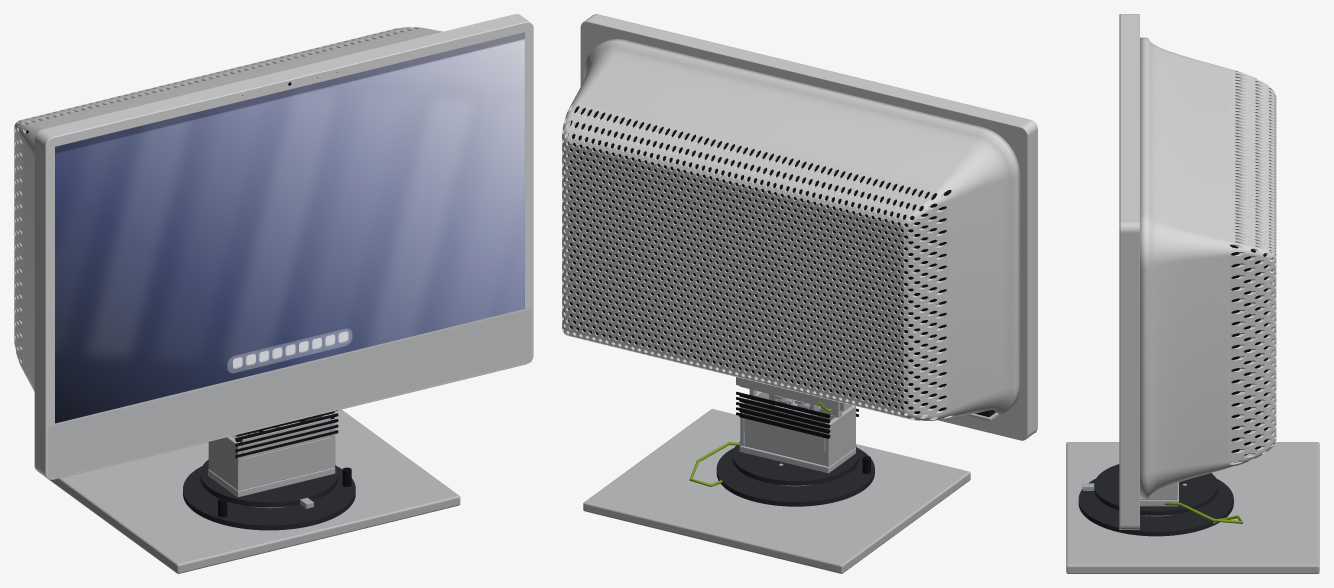
The model's file is imac_pc.glb.
The picture shows the model from 3 angles, left to right: view 1: azimuth 30°, elevation 25°; view 2: azimuth 150°, elevation 25°; view 3: azimuth 270°, elevation 25°; orthographic projection. The views are drawn at different scales.
Parts seen in each view (by area): view 1: display, chin_print, stand_foot, front_glass, cover_back, slab, stand_swivel_stator, stand_neck_cover1, stand_swivel_rotor, stand_arm0, stand_neck_tab, stand_neck_base; view 2: cover_back, stand_foot, cover_filter, slab, stand_swivel_stator, stand_swivel_rotor, stand_neck_tie, stand_arm0, stand_neck_cover0, hinge_cover, stand_neck_base, front_glass; view 3: cover_back, stand_foot, slab, stand_swivel_stator, stand_swivel_rotor, cover_filter, front_glass, stand_arm1, pe_braid_swivel.
Part boxes in pixels (left/top/right/bottom): display: left=55, top=32, right=524, bottom=423; chin_print: left=47, top=309, right=531, bottom=479; stand_foot: left=39, top=409, right=460, bottom=573; front_glass: left=45, top=22, right=533, bottom=479; cover_back: left=14, top=27, right=442, bottom=391; slab: left=34, top=14, right=529, bottom=477; stand_swivel_stator: left=183, top=466, right=355, bottom=530; stand_neck_cover1: left=239, top=437, right=333, bottom=490; stand_swivel_rotor: left=200, top=459, right=338, bottom=507; stand_arm0: left=208, top=436, right=242, bottom=490; stand_neck_tab: left=240, top=418, right=330, bottom=458; stand_neck_base: left=208, top=467, right=335, bottom=497; cover_back: left=562, top=39, right=1020, bottom=420; stand_foot: left=583, top=409, right=970, bottom=573; cover_filter: left=568, top=106, right=951, bottom=413; slab: left=580, top=14, right=1037, bottom=440; stand_swivel_stator: left=716, top=447, right=874, bottom=506; stand_swivel_rotor: left=732, top=442, right=858, bottom=485; stand_neck_tie: left=744, top=403, right=826, bottom=452; stand_arm0: left=825, top=405, right=855, bottom=466; stand_neck_cover0: left=744, top=433, right=825, bottom=465; hinge_cover: left=739, top=378, right=839, bottom=410; stand_neck_base: left=739, top=445, right=855, bottom=473; front_glass: left=594, top=14, right=1037, bottom=429; cover_back: left=1140, top=37, right=1276, bottom=498; stand_foot: left=1066, top=442, right=1319, bottom=573; slab: left=1120, top=14, right=1139, bottom=529; stand_swivel_stator: left=1078, top=478, right=1233, bottom=536; stand_swivel_rotor: left=1094, top=464, right=1218, bottom=515; cover_filter: left=1230, top=245, right=1268, bottom=455; front_glass: left=1119, top=14, right=1120, bottom=529; stand_arm1: left=1140, top=482, right=1178, bottom=500; pe_braid_swivel: left=1164, top=502, right=1243, bottom=523.
Size of the model in its own units: 620 by 535 by 310.
65 materials, 4 textured.
